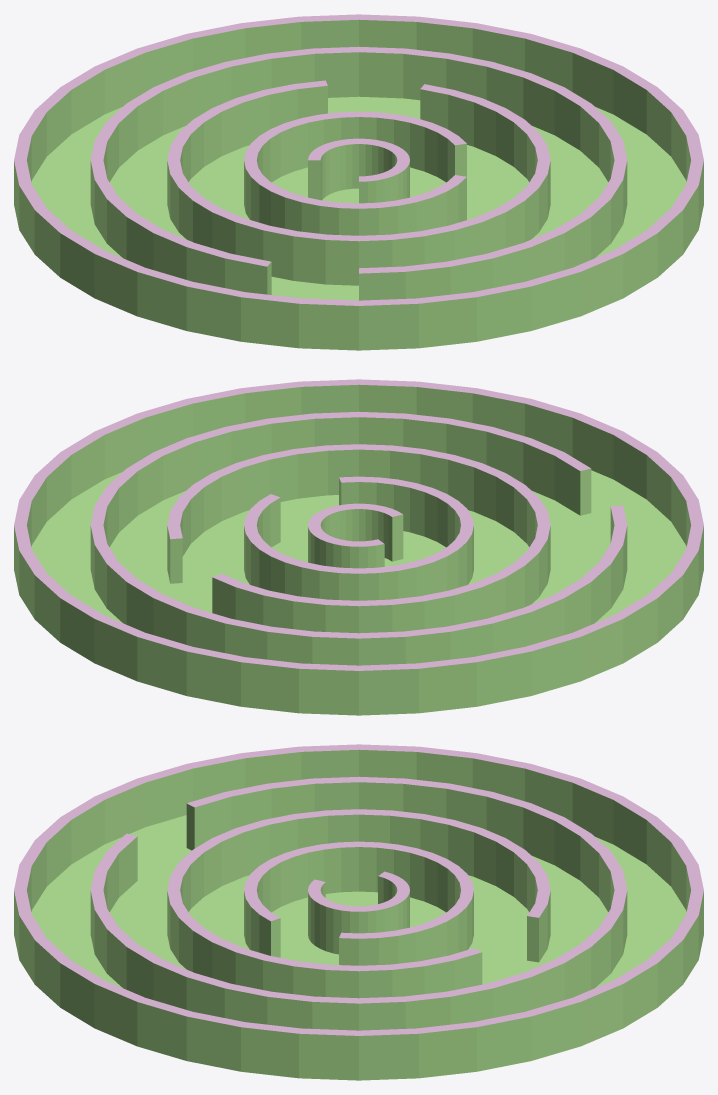
Rendered from Maze level 2.fbx.
3 views of the same model, one above another, from view 1: azimuth 30°, elevation 25°; view 2: azimuth 150°, elevation 25°; view 3: azimuth 270°, elevation 25° (orthographic).
Parts seen in each view (by area): view 1: Vert; view 2: Vert; view 3: Vert.
Boxes of the visible parts, x1,y1,x2,y2 form: Vert: (14, 14, 703, 350); Vert: (14, 379, 703, 715); Vert: (14, 744, 703, 1080).
Bounding box in the file's own units: 3991 × 285 × 3991.
